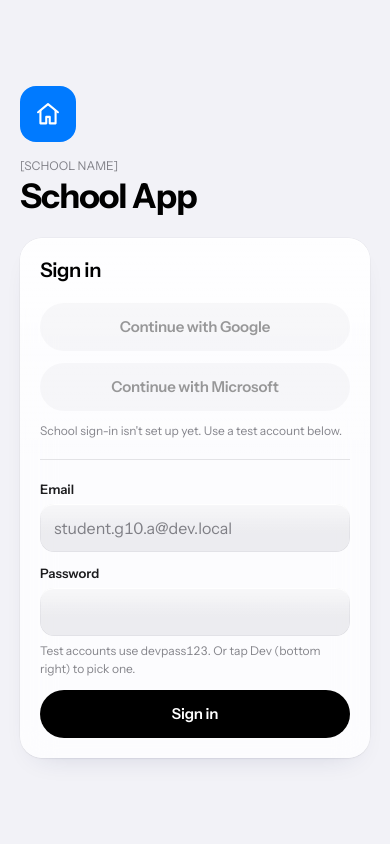
Test: LoginPage (dev mode) › explains a wrong password in plain words
Step 1. Type "student.g8.a@dev.local" into the field labelled "Email" → coordinates (195, 528), box [40, 504, 350, 552]
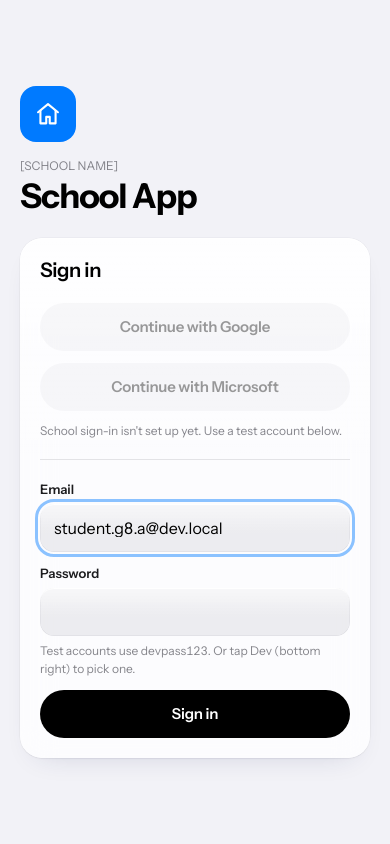
Step 2. Type "wrong" into the password field labelled "Password" → coordinates (195, 612), box [40, 588, 350, 636]
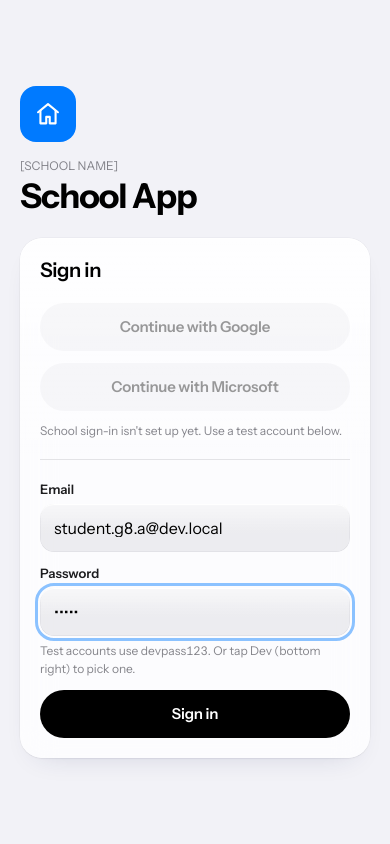
Step 3. Click the button "Sign in" → coordinates (195, 714), box [40, 690, 350, 738]
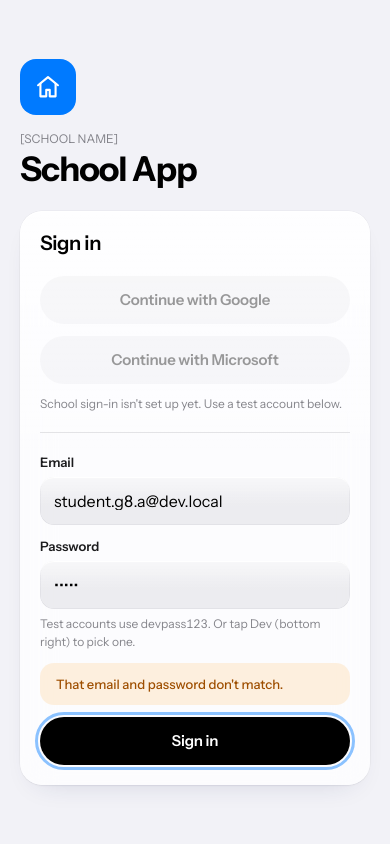
Expected: the message reads "That email and password don't match.", [56, 676, 283, 692]
